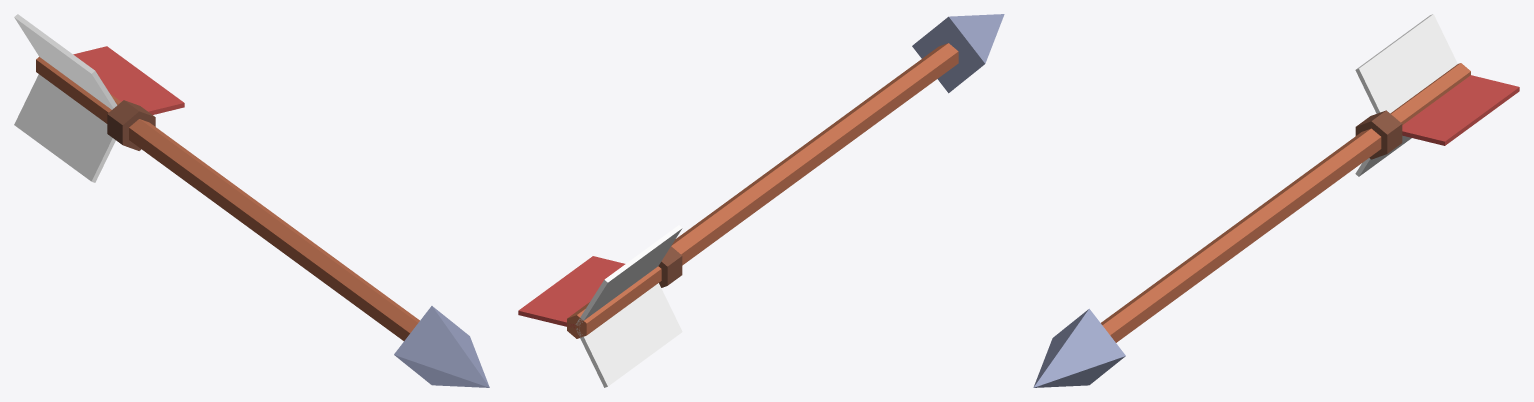
File: arrow.glb
3 views of the same model, side by side, from view 1: azimuth 30°, elevation 25°; view 2: azimuth 150°, elevation 25°; view 3: azimuth 330°, elevation 25° (orthographic). The views are drawn at different scales.
Parts seen in each view (by area): view 1: arrow; view 2: arrow; view 3: arrow.
Boxes of the visible parts, left/top/right/bottom form: arrow: left=14, top=14, right=489, bottom=387; arrow: left=518, top=14, right=1004, bottom=387; arrow: left=1033, top=14, right=1519, bottom=387.
Bounding box in the file's own units: 0.0913 × 0.0992 × 0.7099.
1 material, 1 textured.
